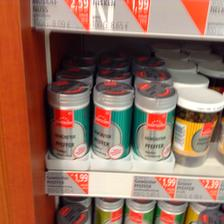Gewuerze: (174, 86, 222, 166), (46, 79, 90, 157), (132, 82, 176, 158), (92, 80, 132, 156)
